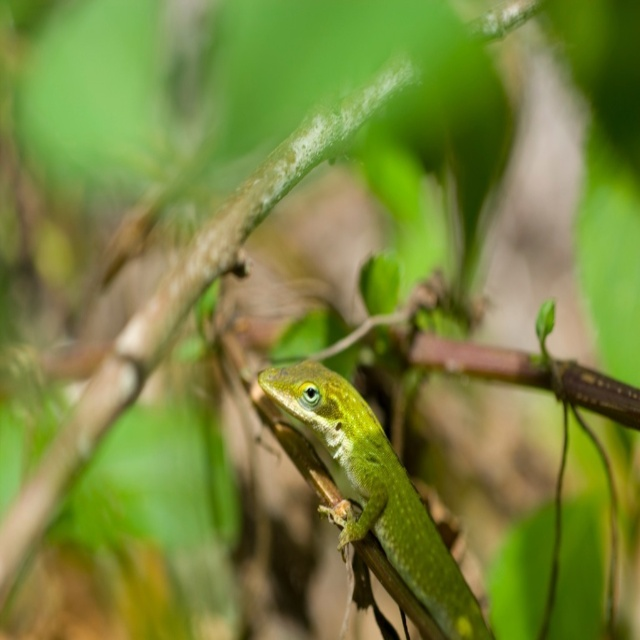Lizard: (247, 357, 526, 640)
